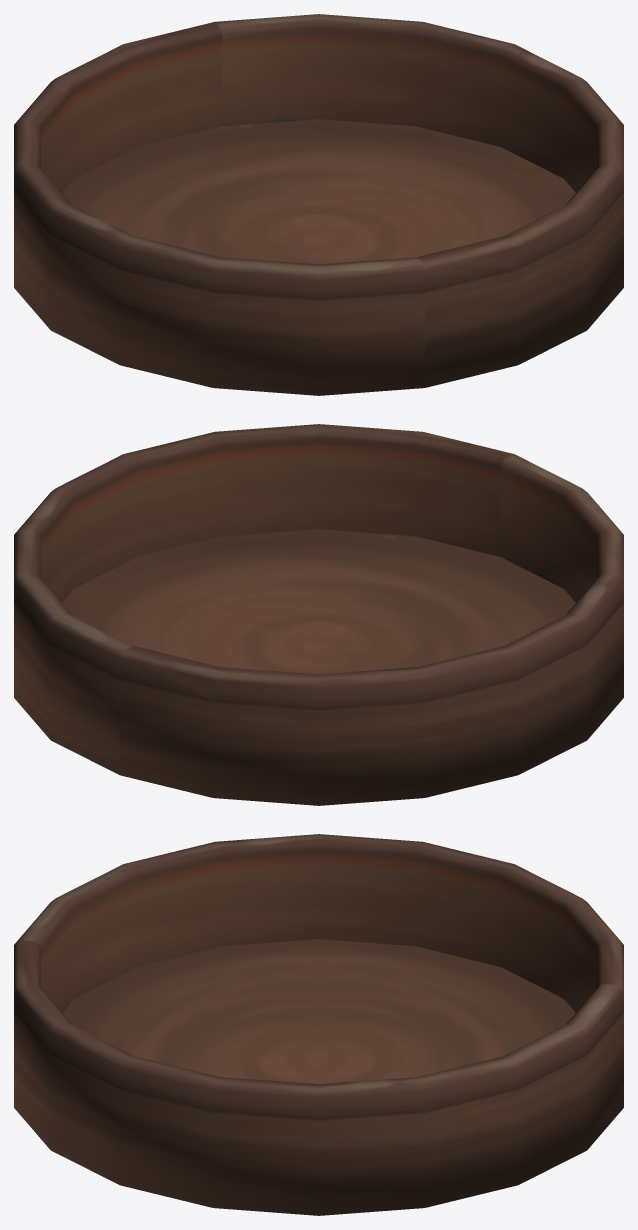
Rendered from Plate_06.FBX.
The picture shows the model from 3 angles, top to bottom: view 1: azimuth 30°, elevation 25°; view 2: azimuth 150°, elevation 25°; view 3: azimuth 270°, elevation 25°; orthographic projection.
Parts seen in each view (by area): view 1: Plate_06; view 2: Plate_06; view 3: Plate_06.
Boxes of the visible parts, x1,y1,x2,y2 form: Plate_06: (14, 14, 623, 395); Plate_06: (14, 424, 623, 805); Plate_06: (14, 834, 623, 1215).
Bounding box in the file's own units: 138 × 30.06 × 136.
